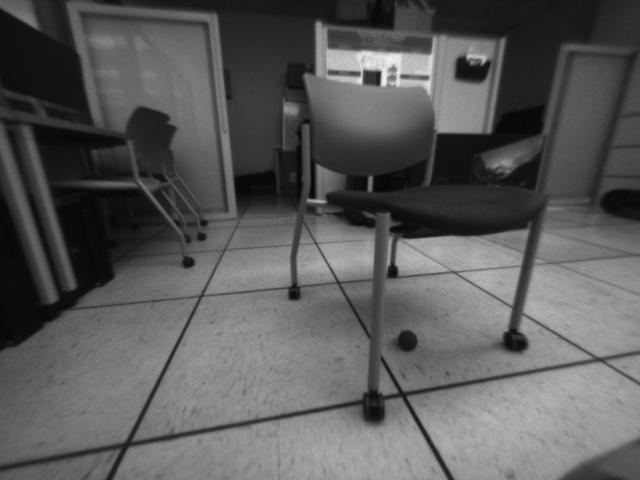dogtoy: (390, 323, 425, 357)
